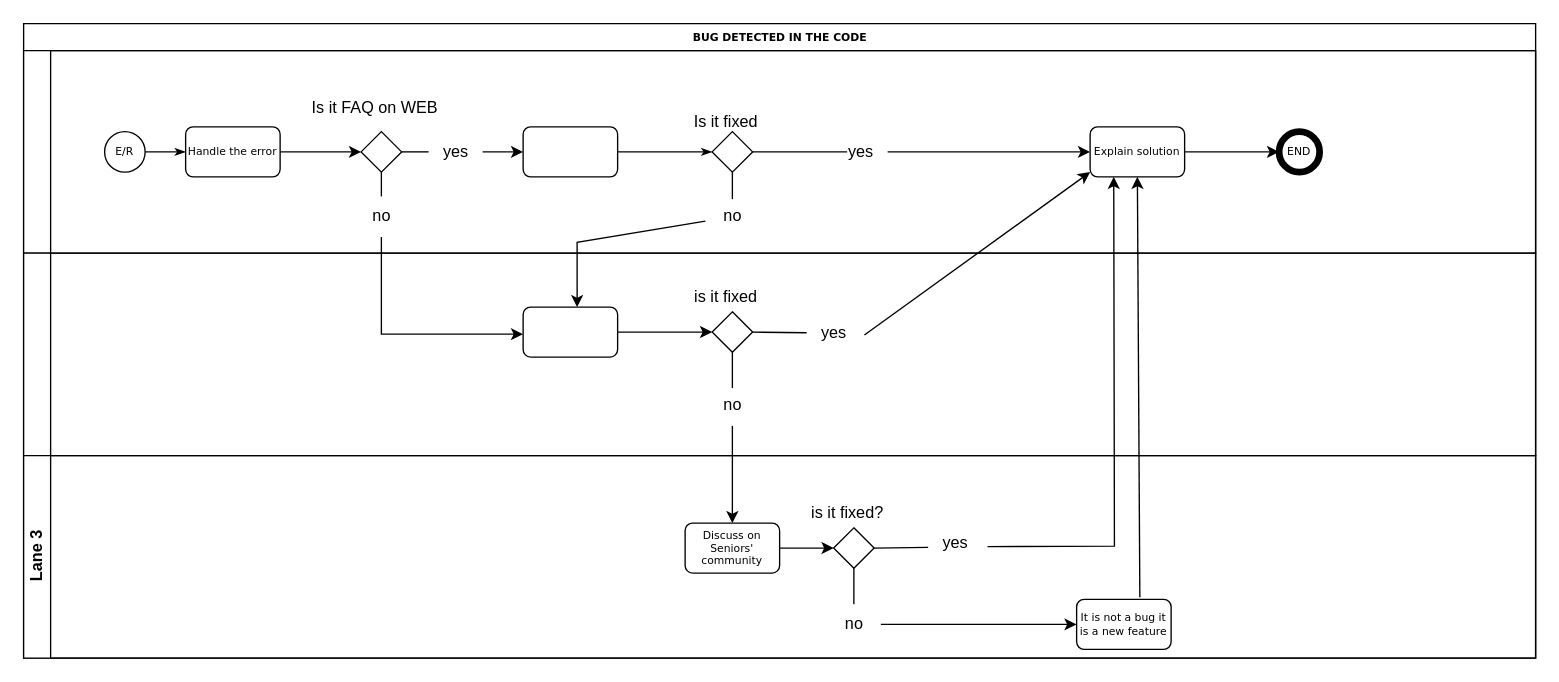
The diagram is 1559 pixels wide and 682 high, and some of its shapes have lost their labels. Here are the shapes that lost their labels. From the top down, the box of each, then its label:
(522, 126, 618, 177): Use it and provide answer link
(22, 49, 1536, 253): Lane 1
(522, 306, 618, 357): Call 1 on 1
(22, 252, 1536, 456): Lane 2
